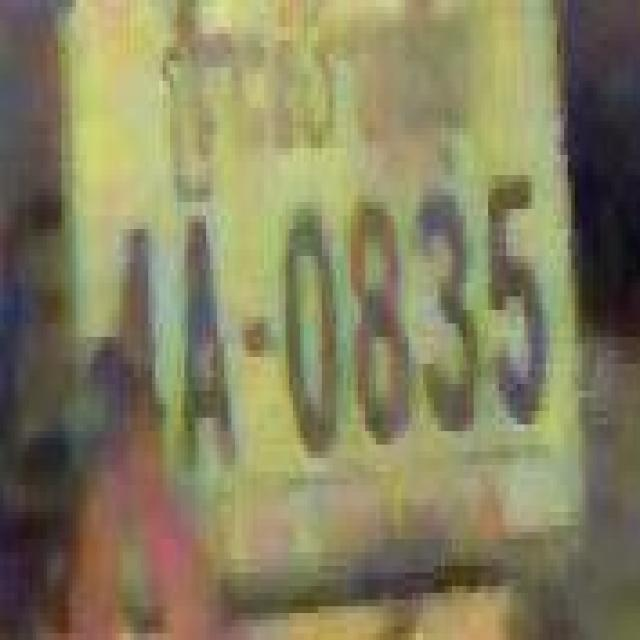Preah_Sihanouk: (163, 7, 465, 197)
